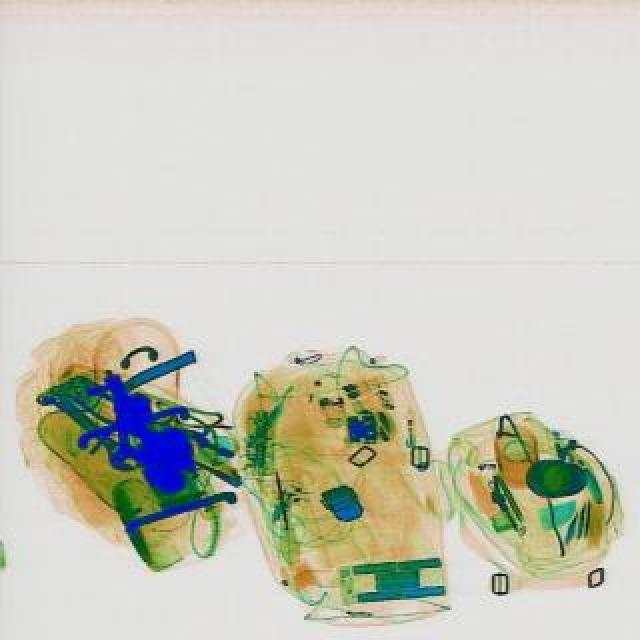scissors: (38, 382, 148, 480)
